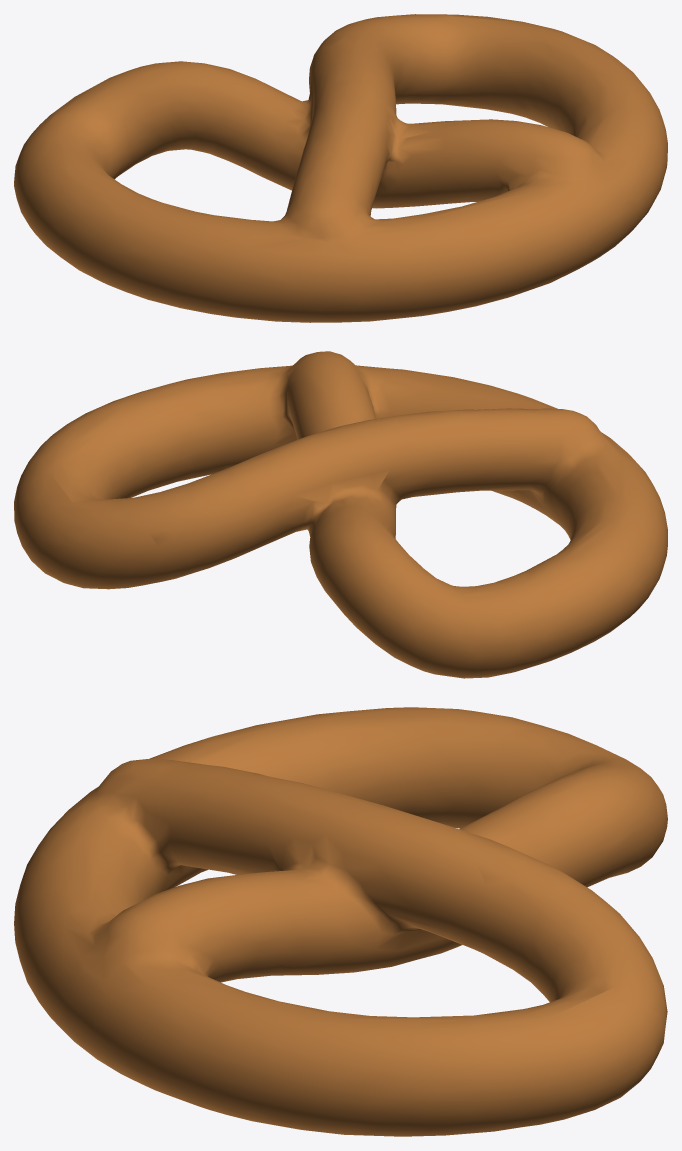
Rendered from NEW_RECOVERY_001_LOD1.fbx.
3 views of the same model, one above another, from view 1: azimuth 30°, elevation 25°; view 2: azimuth 150°, elevation 25°; view 3: azimuth 270°, elevation 25° (orthographic). The views are drawn at different scales.
Visible parts, largest first — view 1: NEW_RECOVERY_001_Pretzel_LOD1; view 2: NEW_RECOVERY_001_Pretzel_LOD1; view 3: NEW_RECOVERY_001_Pretzel_LOD1.
Part boxes in pixels (left/top/right/bottom): NEW_RECOVERY_001_Pretzel_LOD1: left=14, top=14, right=667, bottom=322; NEW_RECOVERY_001_Pretzel_LOD1: left=14, top=351, right=667, bottom=678; NEW_RECOVERY_001_Pretzel_LOD1: left=14, top=707, right=667, bottom=1136.
Bounding box in the file's own units: 25.26 × 19.41 × 5.59.
